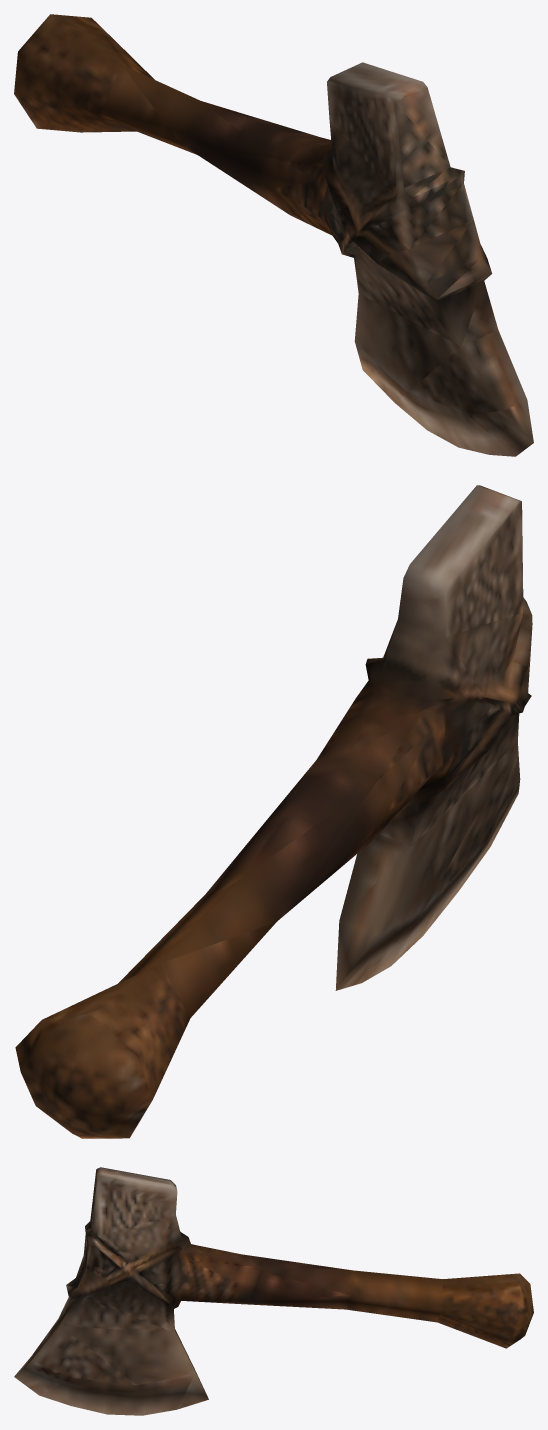
The model's file is axe.glb.
3 views of the same model, one above another, from view 1: azimuth 30°, elevation 25°; view 2: azimuth 150°, elevation 25°; view 3: azimuth 270°, elevation 25° (orthographic). The views are drawn at different scales.
Parts seen in each view (by area): view 1: 도끼_tripo_part_4; view 2: 도끼_tripo_part_4; view 3: 도끼_tripo_part_4.
Part boxes in pixels (<box>): 도끼_tripo_part_4: <box>14,14,533,456</box>; 도끼_tripo_part_4: <box>15,485,532,1138</box>; 도끼_tripo_part_4: <box>14,1167,533,1415</box>.
Size of the model in its own units: 0.0506 by 0.1474 by 0.3004.
1 material, 1 textured.
